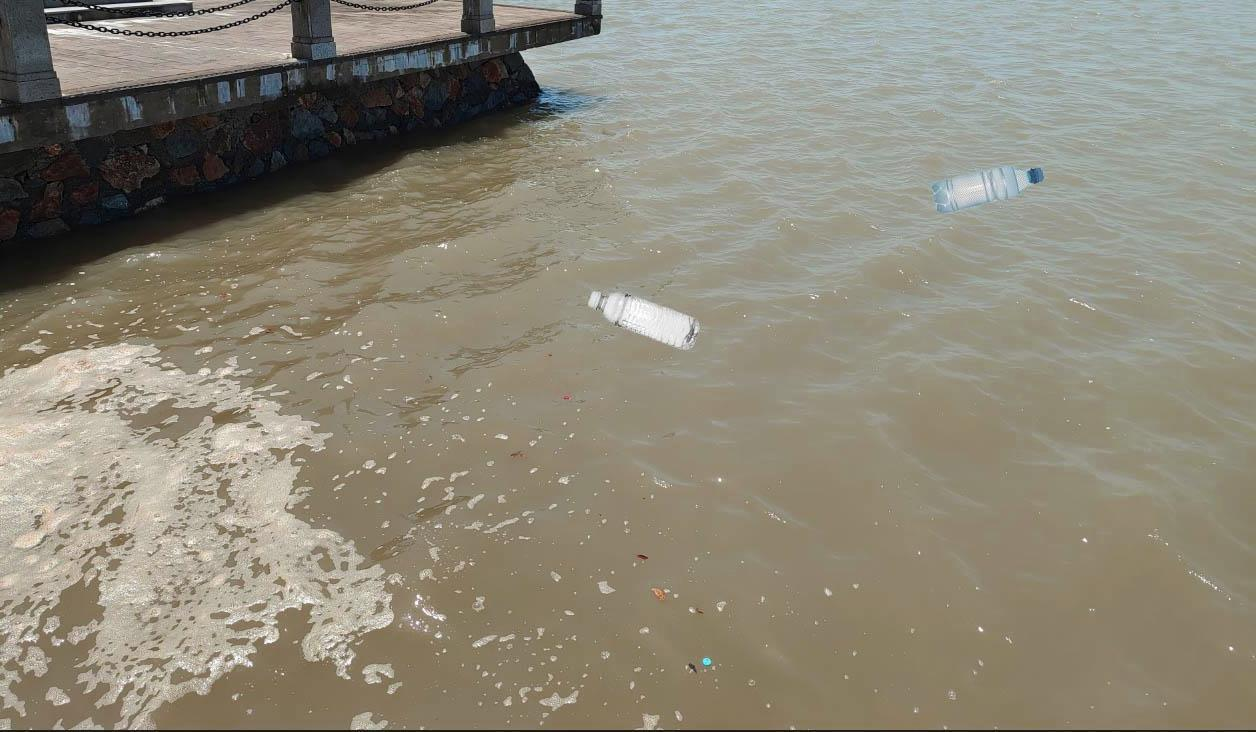Plastic: (587, 287, 699, 353), (934, 162, 1047, 213)
